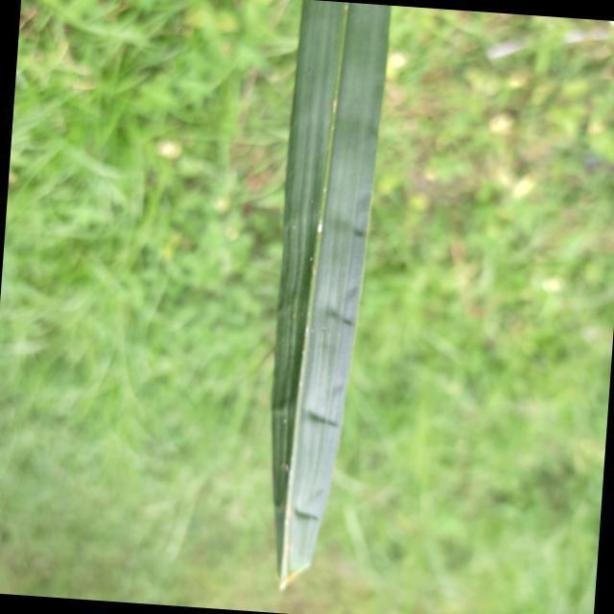Boron: (270, 0, 394, 601)
